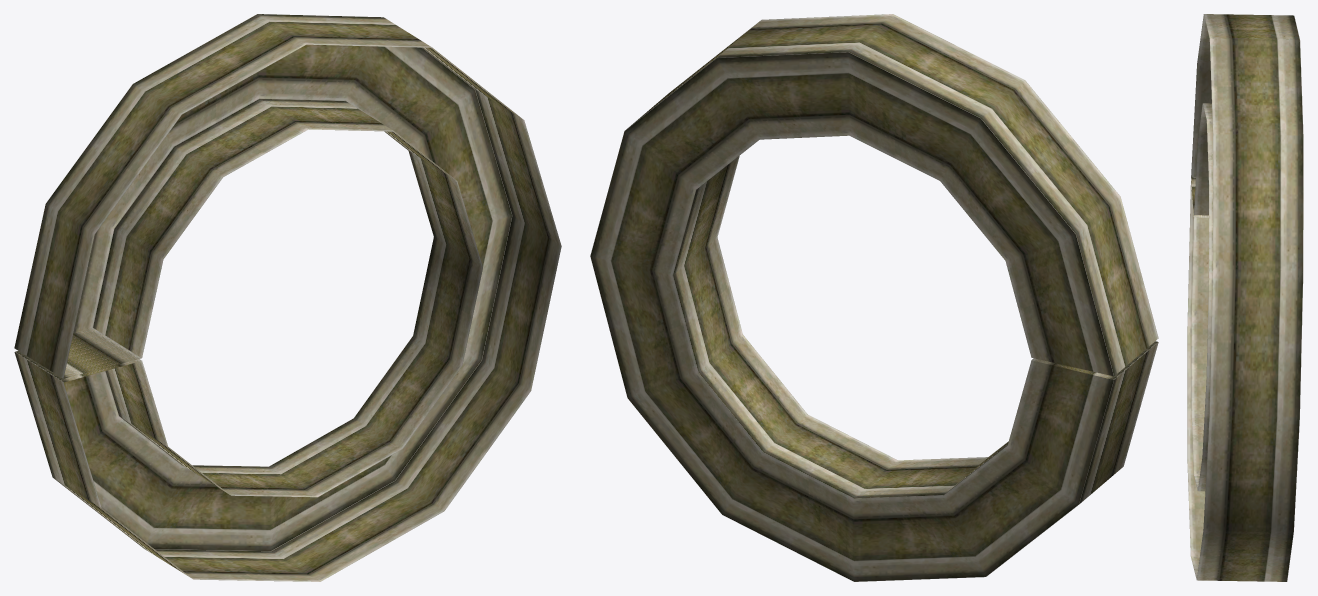
File: CH09_SMAUG_PLAYSURFACE_LAIR132.fbx
3 views of the same model, side by side, from view 1: azimuth 30°, elevation 25°; view 2: azimuth 150°, elevation 25°; view 3: azimuth 270°, elevation 25° (orthographic). The views are drawn at different scales.
Parts seen in each view (by area): view 1: CH09_SMAUG_PLAYSURFACE_LAIR132; view 2: CH09_SMAUG_PLAYSURFACE_LAIR132; view 3: CH09_SMAUG_PLAYSURFACE_LAIR132.
Part boxes in pixels (x1,y1,x2,y2): CH09_SMAUG_PLAYSURFACE_LAIR132: [14, 14, 561, 581]; CH09_SMAUG_PLAYSURFACE_LAIR132: [590, 14, 1158, 581]; CH09_SMAUG_PLAYSURFACE_LAIR132: [1187, 14, 1303, 581].
Bounding box in the file's own units: 72104 × 72115 × 14640.
1 material, 1 textured.
